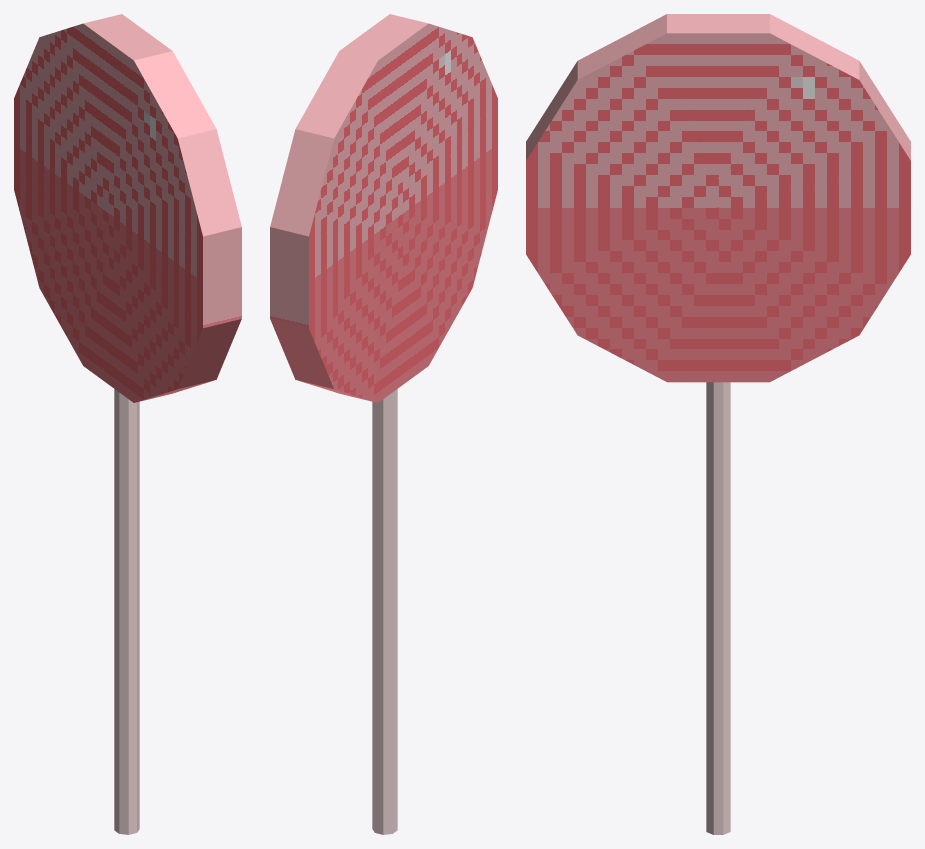
The model's file is Swirly Lolipop Trees (Pink).gltf.
3 views of the same model, side by side, from view 1: azimuth 30°, elevation 25°; view 2: azimuth 150°, elevation 25°; view 3: azimuth 270°, elevation 25° (orthographic).
Visible parts, largest first — view 1: cylinder (×2); view 2: cylinder (×2); view 3: cylinder (×2).
Boxes of the visible parts, x1,y1,x2,y2 form: cylinder (×2): (14,14,241,834); cylinder (×2): (270,14,497,834); cylinder (×2): (526,14,910,834).
Bounding box in the file's own units: 0.1187 × 2.31 × 1.
Materials: 2 (2 with a texture image).
